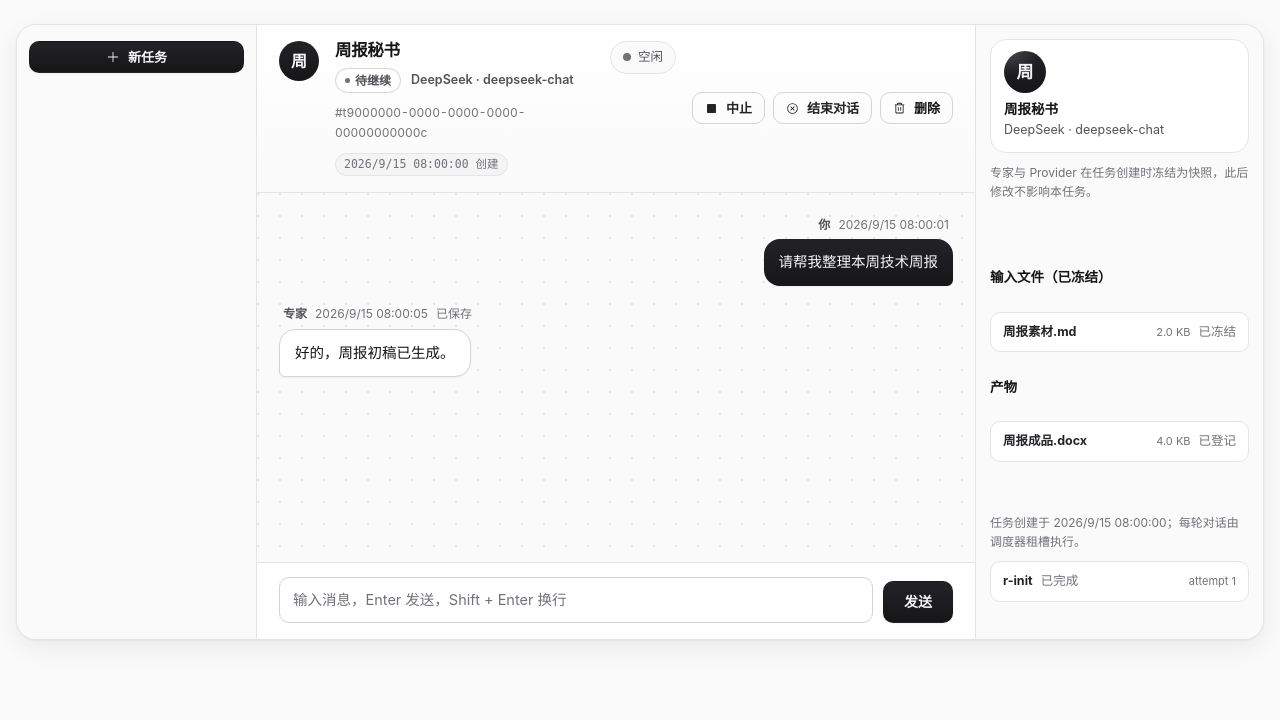
it: ⑨（附加）发送 202 event_sequence 直接校准水位 › 响应水位先行：其下的持久帧被单调约束丢弃，乐观消息经回补收敛
Type "再来一轮" into the text box at x=576, y=600, box [279,577,873,623]
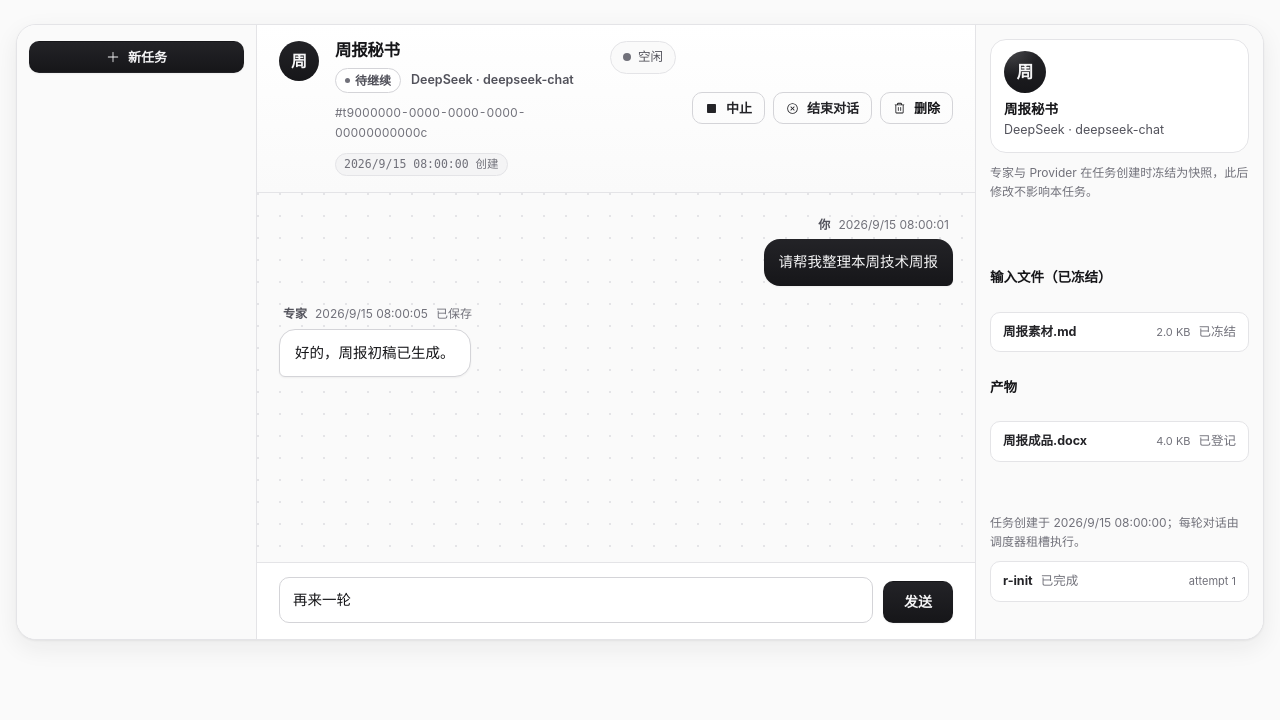
Click the button "发送" at x=918, y=602, box [883,581,953,623]
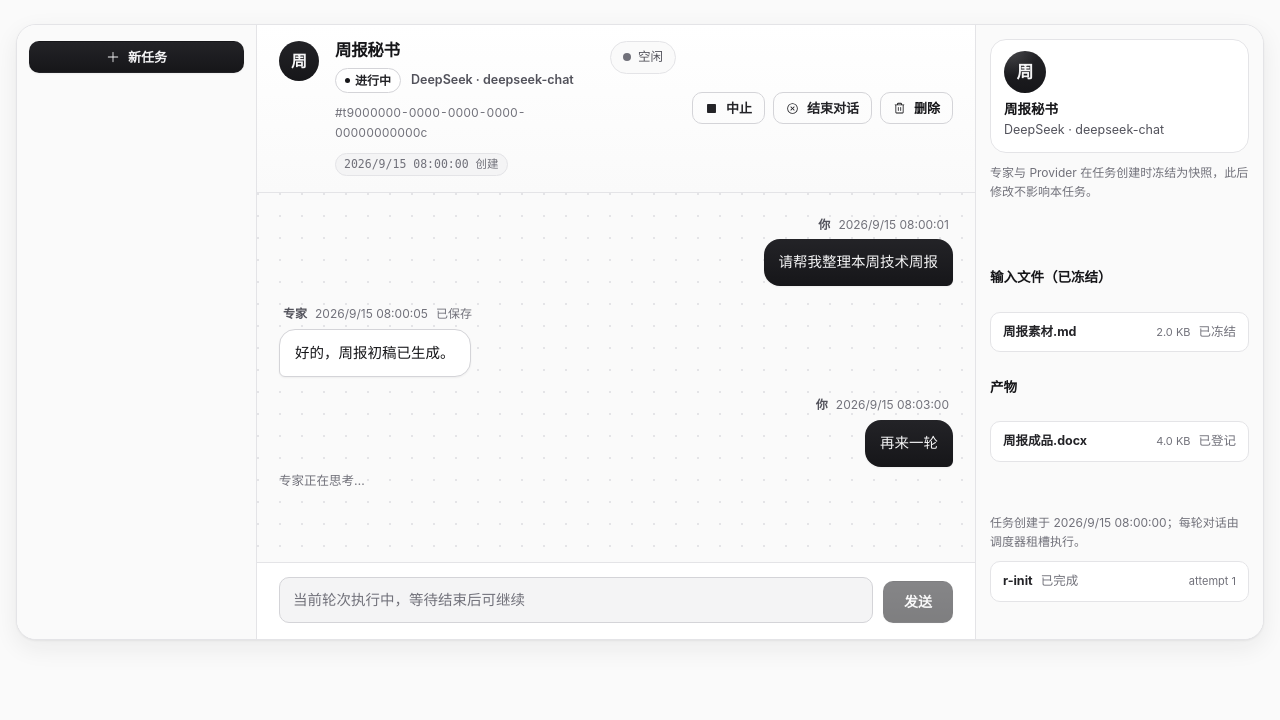
Now the text "再来一轮" is shown, box [880,431,938,456]
Now the text "进行中" is shown, box [335,68,401,93]
